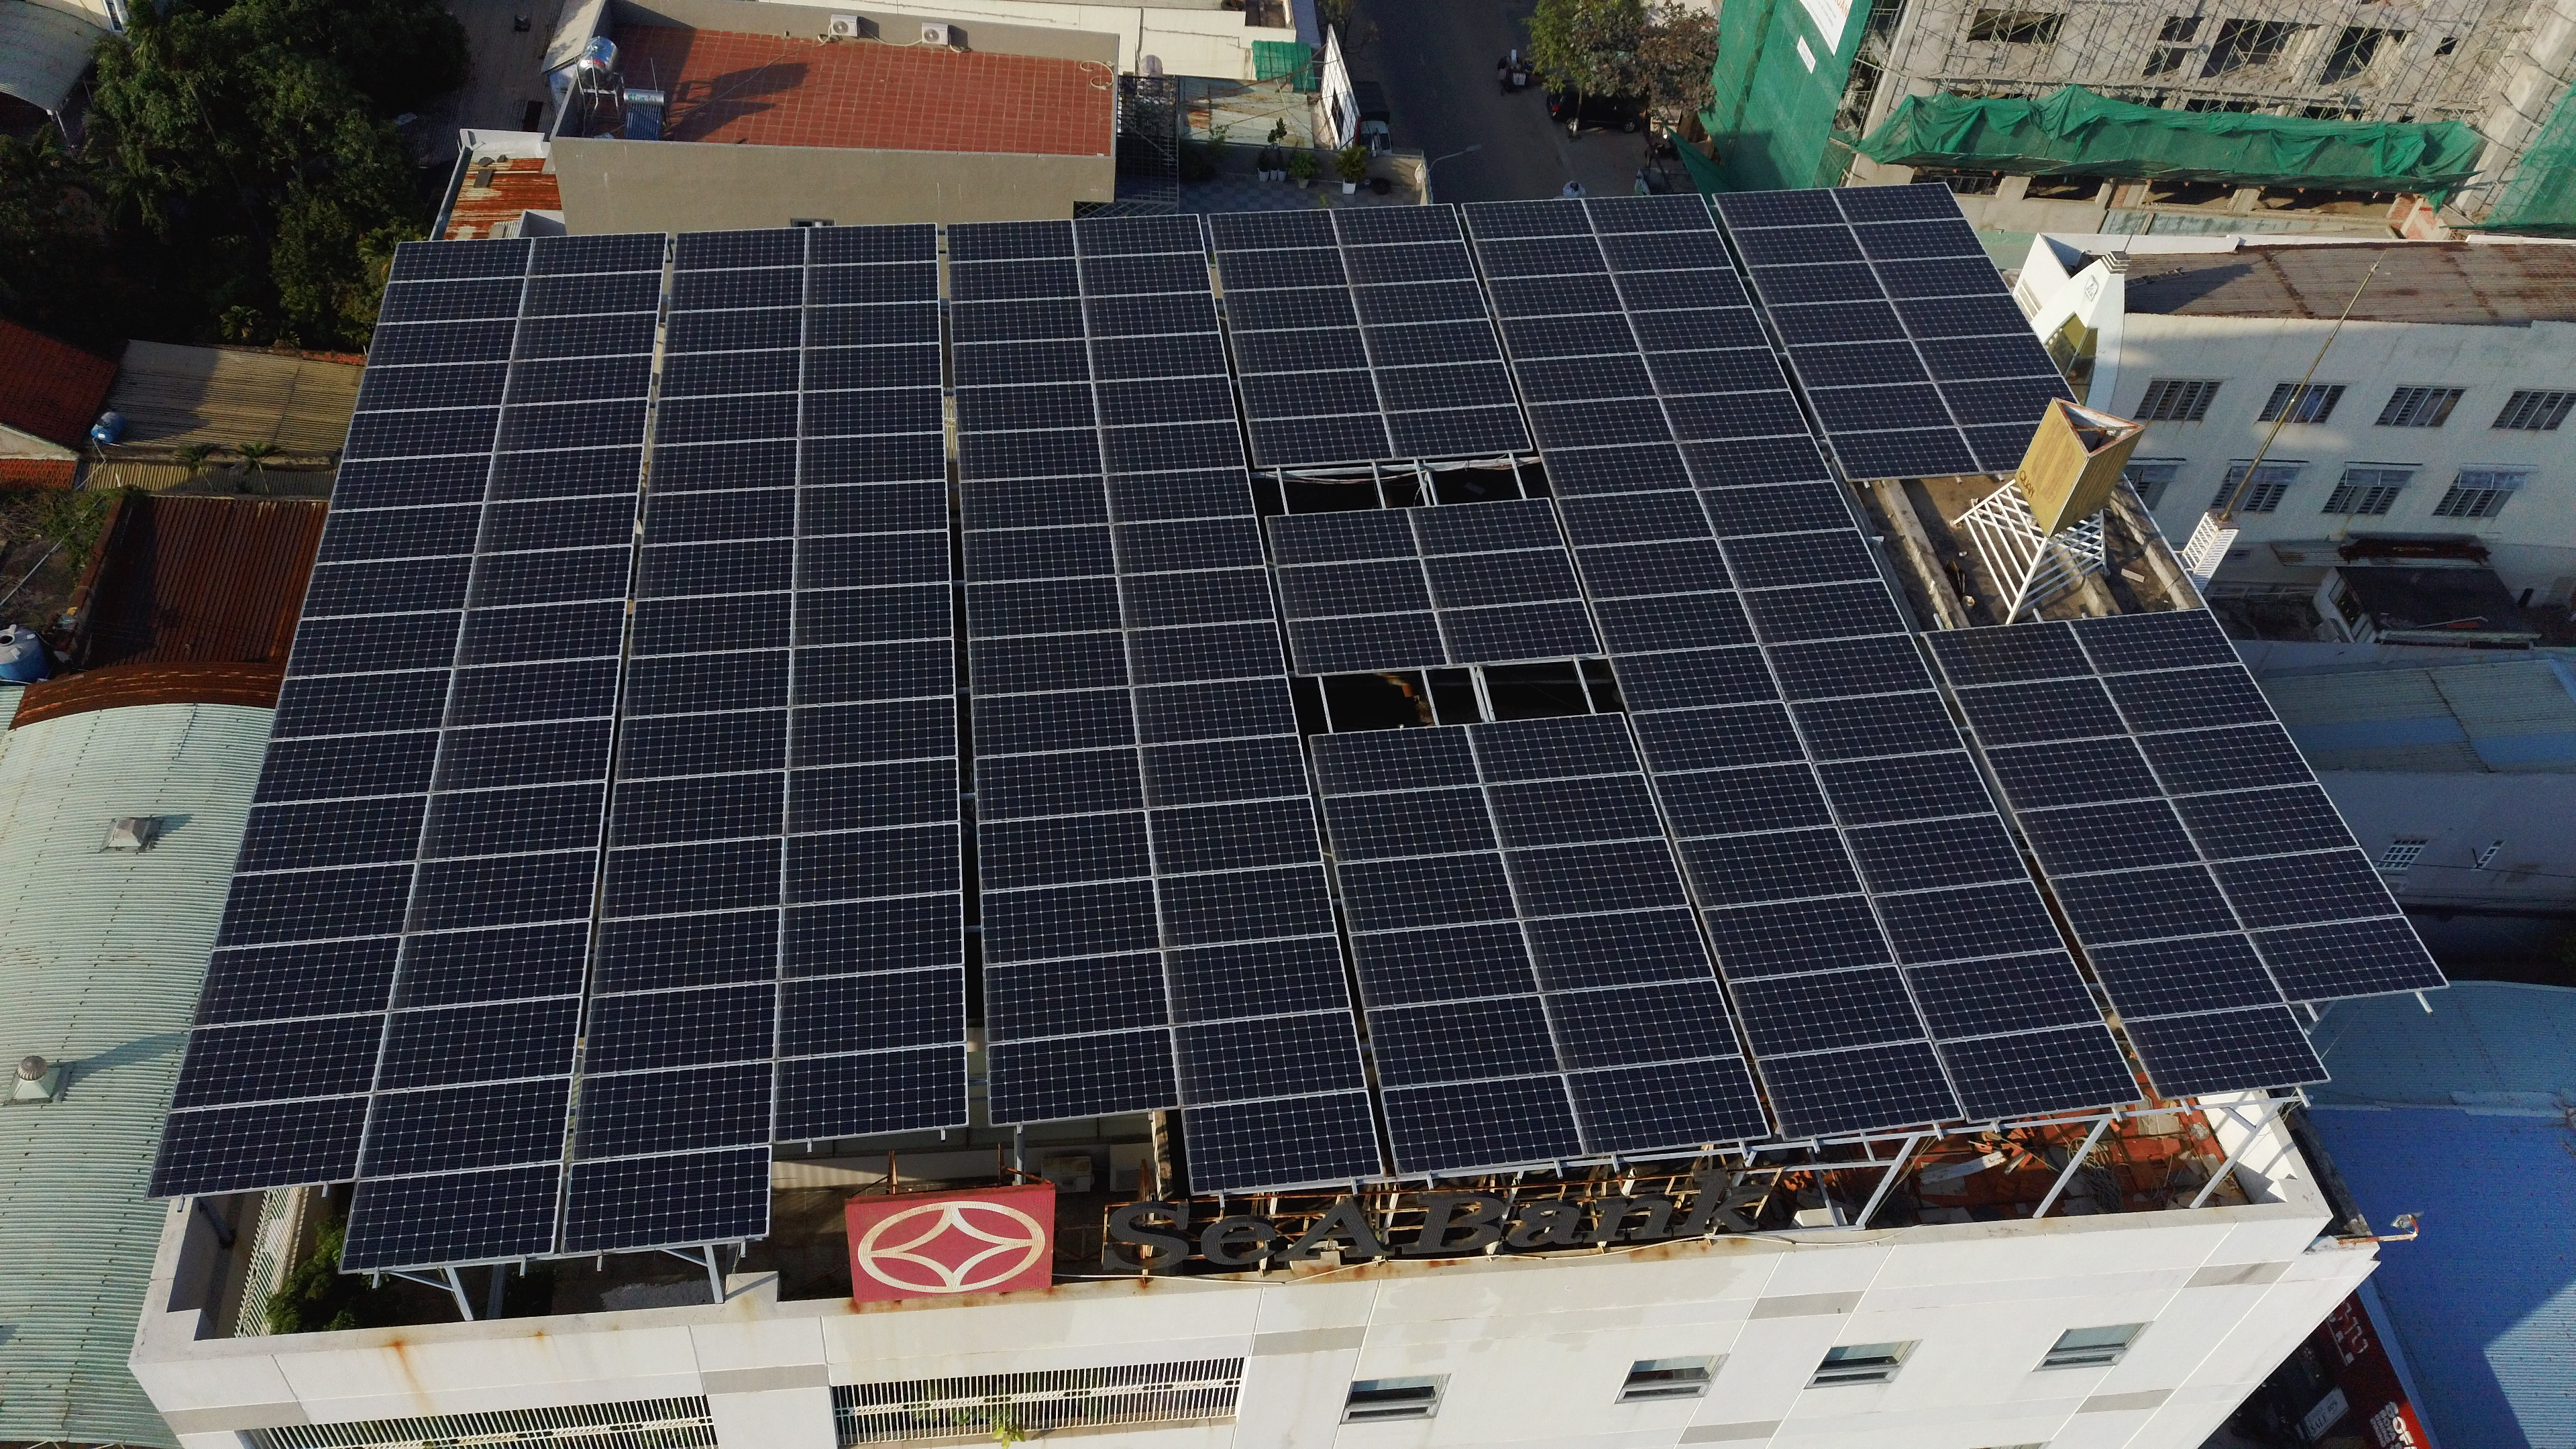solar: (343, 1157, 566, 1272), (557, 1145, 770, 1260), (1744, 1037, 1962, 1148), (166, 1010, 389, 1116), (150, 1095, 372, 1200), (1376, 1072, 1591, 1177), (356, 1079, 573, 1182), (1164, 1003, 1371, 1108), (1928, 1021, 2146, 1120), (1560, 1054, 1769, 1155), (2121, 1000, 2332, 1099), (571, 1060, 773, 1161), (373, 998, 579, 1097), (577, 982, 778, 1081), (386, 918, 589, 1016), (1171, 1099, 1378, 1194), (191, 932, 405, 1024), (1725, 962, 1941, 1053), (1362, 994, 1568, 1088), (2082, 931, 2288, 1024), (2206, 844, 2415, 936), (775, 1044, 966, 1143), (987, 1026, 1178, 1125), (1902, 947, 2102, 1040), (2249, 913, 2452, 1005), (2162, 778, 2362, 870), (2049, 862, 2254, 950), (212, 860, 410, 950), (2001, 791, 2206, 878), (405, 849, 598, 941), (586, 902, 778, 994), (1346, 918, 1539, 1008), (1702, 892, 1898, 980), (1543, 980, 1741, 1067), (1835, 812, 2035, 897), (1868, 883, 2068, 968), (777, 970, 962, 1060), (1162, 936, 1352, 1024), (982, 874, 1162, 966), (235, 791, 426, 878), (1960, 731, 2167, 810), (973, 810, 1154, 901), (985, 950, 1166, 1040), (2130, 722, 2332, 800), (600, 835, 784, 920), (1799, 748, 2005, 824), (418, 784, 605, 867), (1502, 837, 1693, 918), (1527, 908, 1718, 989), (784, 824, 966, 908), (780, 895, 962, 978), (249, 727, 439, 807), (1677, 828, 1867, 908), (607, 770, 784, 853), (1157, 865, 1338, 947), (1483, 775, 1670, 853), (1651, 763, 1838, 840), (2084, 665, 2282, 738), (1334, 853, 1516, 931), (1148, 796, 1322, 878), (619, 708, 789, 789), (442, 655, 621, 731), (430, 717, 612, 791), (975, 679, 1139, 761), (1631, 697, 1812, 770), (1937, 674, 2132, 741), (1320, 787, 1499, 860), (978, 745, 1141, 824), (1311, 727, 1488, 800), (1138, 738, 1313, 810), (621, 644, 794, 717), (787, 763, 961, 835), (1465, 708, 1638, 780), (1608, 642, 1782, 715), (626, 593, 798, 665), (1780, 692, 1967, 757), (464, 545, 637, 616), (455, 600, 628, 671), (269, 672, 451, 740), (1737, 580, 1909, 649), (1764, 635, 1936, 704), (1437, 596, 1605, 665), (301, 556, 478, 621), (287, 612, 464, 678), (1419, 543, 1585, 612), (2063, 609, 2242, 672), (1132, 678, 1295, 747), (1286, 605, 1449, 674), (971, 628, 1129, 699), (1916, 619, 2098, 679), (1123, 623, 1288, 688), (315, 502, 488, 564), (1587, 591, 1760, 653), (1116, 568, 1279, 633), (633, 536, 794, 602), (471, 494, 639, 556), (1109, 515, 1265, 579), (1688, 478, 1858, 536), (1713, 531, 1882, 589), (485, 444, 644, 506), (326, 455, 497, 511), (340, 405, 506, 464), (1267, 510, 1424, 570), (1541, 441, 1702, 499), (1573, 540, 1736, 596), (1384, 400, 1536, 460), (1552, 490, 1713, 547), (791, 706, 962, 759), (1279, 561, 1435, 619), (637, 492, 796, 548), (1410, 497, 1562, 556), (1884, 294, 2051, 347), (1909, 331, 2075, 384), (1930, 377, 2097, 430), (640, 437, 796, 494), (794, 586, 954, 640), (798, 478, 943, 538), (646, 393, 800, 449), (970, 579, 1123, 635), (1817, 426, 1983, 478), (1244, 412, 1394, 469), (794, 644, 954, 697), (1677, 435, 1836, 488), (959, 472, 1111, 527), (964, 527, 1116, 582), (502, 352, 653, 407), (794, 531, 945, 586), (1511, 352, 1654, 409), (1529, 395, 1672, 451), (655, 347, 801, 402), (373, 274, 529, 326), (366, 318, 522, 370), (494, 398, 644, 451), (1109, 469, 1258, 522), (1483, 267, 1626, 322), (1497, 311, 1640, 366), (1767, 343, 1932, 391), (1228, 324, 1375, 377), (1624, 303, 1771, 356), (1799, 386, 1962, 433), (1093, 372, 1235, 426), (1102, 419, 1244, 474), (957, 428, 1108, 479), (386, 230, 533, 281), (356, 363, 513, 410), (800, 433, 945, 485), (1237, 370, 1382, 421), (1642, 345, 1787, 396), (1663, 389, 1808, 441), (660, 308, 809, 357), (511, 313, 655, 364), (954, 382, 1095, 433), (1760, 303, 1916, 349), (520, 271, 663, 320), (800, 386, 943, 435), (952, 338, 1093, 387), (1580, 186, 1720, 235), (1594, 228, 1734, 278), (1610, 264, 1750, 313), (1345, 281, 1488, 329), (1361, 318, 1502, 366), (1829, 180, 1971, 228), (803, 260, 939, 310), (805, 341, 941, 391), (1847, 214, 1987, 262), (672, 262, 807, 311), (805, 294, 939, 343), (1338, 239, 1481, 285), (1088, 334, 1230, 380), (1371, 364, 1513, 410), (1867, 253, 2008, 299), (671, 226, 807, 274), (1205, 203, 1341, 251), (1221, 288, 1357, 336), (1081, 292, 1221, 338), (1709, 186, 1854, 230), (1741, 262, 1886, 306), (1729, 225, 1872, 269), (1214, 246, 1350, 292), (1077, 251, 1219, 295), (1070, 214, 1210, 258), (1474, 235, 1610, 280), (525, 232, 667, 274), (1465, 195, 1599, 239), (1332, 202, 1465, 246), (948, 216, 1079, 260), (947, 258, 1083, 301), (948, 299, 1085, 341), (805, 223, 938, 265), (1957, 419, 2054, 474)
